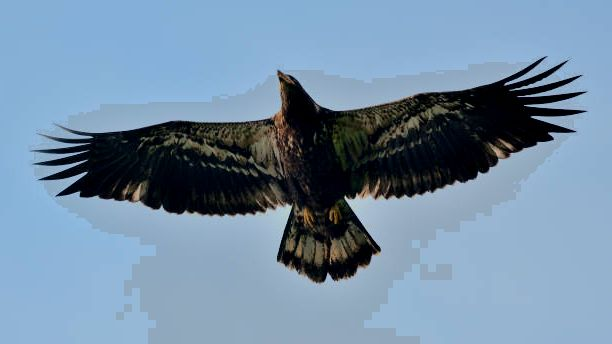Bird: (28, 51, 592, 285)
